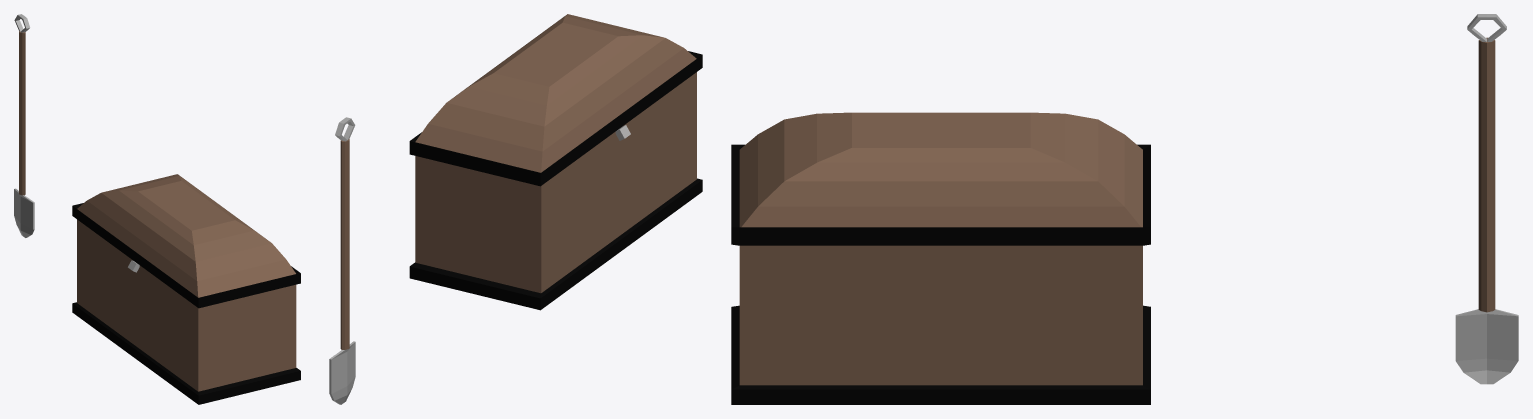
The model's file is treasure.fbx.
3 views of the same model, side by side, from view 1: azimuth 30°, elevation 25°; view 2: azimuth 150°, elevation 25°; view 3: azimuth 270°, elevation 25° (orthographic). The views are drawn at different scales.
Visible parts, largest first — view 1: sandık, kürek; view 2: sandık, kürek; view 3: sandık, kürek.
Part boxes in pixels (left/top/right/bottom): sandık: left=72, top=174, right=300, bottom=404; kürek: left=14, top=14, right=34, bottom=237; sandık: left=409, top=14, right=702, bottom=310; kürek: left=329, top=117, right=355, bottom=404; sandık: left=731, top=112, right=1150, bottom=404; kürek: left=1455, top=14, right=1518, bottom=384.
Bounding box in the file's own units: 219 × 430 × 836.
